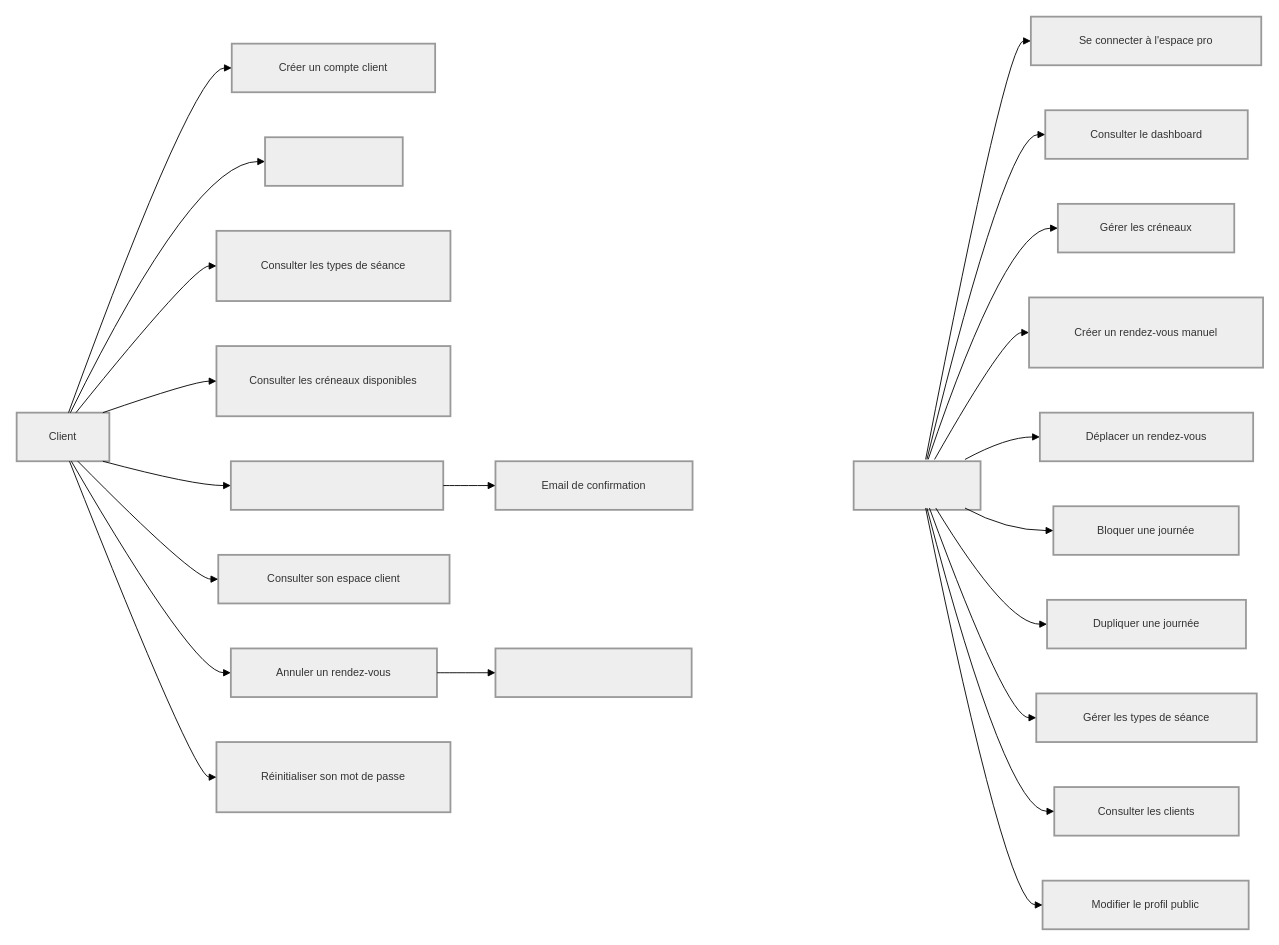
Some shapes in this 1279 by 945 pixel diagram are drawn without their labels. Here are the shapes that lost their labels. From the top down, the box of each, then its label:
(264, 136, 403, 186): Se connecter
(230, 460, 444, 510): Réserver un rendez-vous
(852, 460, 981, 510): Praticienne
(494, 647, 692, 698): Libération du créneau
